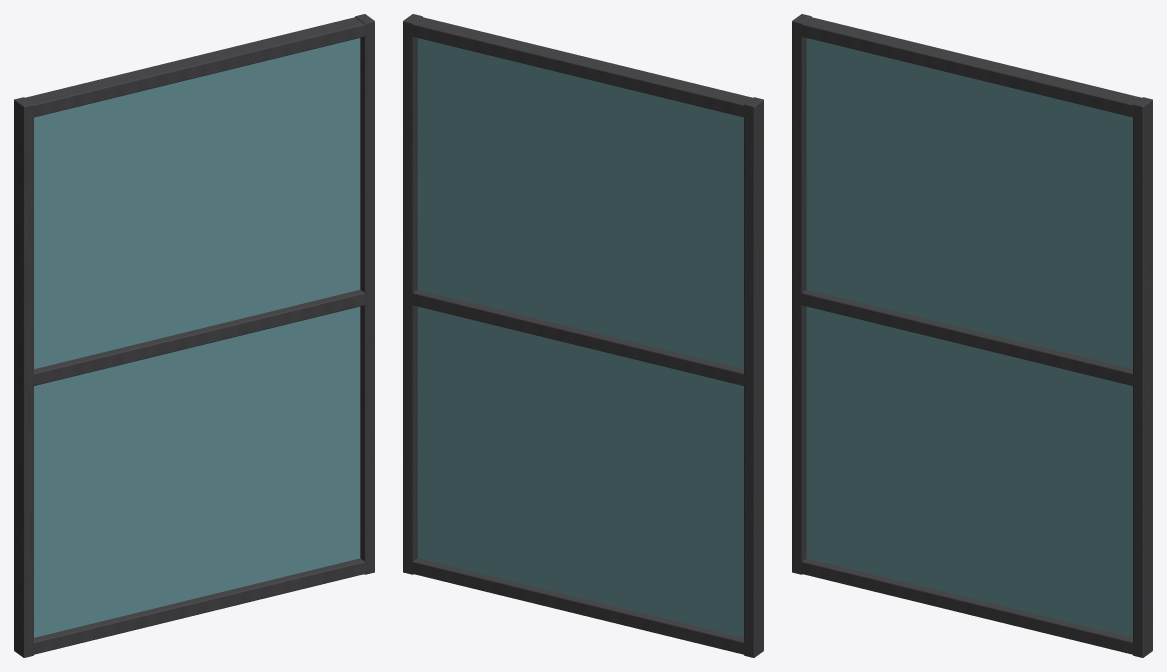
File: glass_panel.glb
3 renders of one model, left to right at view 1: azimuth 30°, elevation 25°; view 2: azimuth 150°, elevation 25°; view 3: azimuth 330°, elevation 25°, orthographic.
Parts seen in each view (by area): view 1: window_glass.001, window_glass, left_frame, right_frame, cross_frame.002, cross_frame, cross_frame.001; view 2: window_glass.001, window_glass, left_frame, right_frame, cross_frame.002, cross_frame, cross_frame.001; view 3: window_glass.001, window_glass, right_frame, left_frame, cross_frame.002, cross_frame, cross_frame.001.
Boxes of the visible parts, <box> form: window_glass.001: <box>34,38,360,369</box>; window_glass: <box>34,306,360,637</box>; left_frame: <box>14,97,33,657</box>; right_frame: <box>355,14,374,574</box>; cross_frame.002: <box>25,17,365,117</box>; cross_frame: <box>33,558,365,654</box>; cross_frame.001: <box>33,289,365,385</box>; window_glass.001: <box>417,38,743,369</box>; window_glass: <box>417,306,743,637</box>; left_frame: <box>744,97,763,657</box>; right_frame: <box>403,14,422,574</box>; cross_frame.002: <box>412,17,752,117</box>; cross_frame: <box>412,558,744,654</box>; cross_frame.001: <box>412,289,744,385</box>; window_glass.001: <box>806,38,1132,369</box>; window_glass: <box>806,306,1132,637</box>; right_frame: <box>1133,97,1152,657</box>; left_frame: <box>792,14,811,574</box>; cross_frame.002: <box>801,17,1141,117</box>; cross_frame: <box>801,558,1133,654</box>; cross_frame.001: <box>801,289,1133,385</box>.
Bounding box in the file's own units: 2 × 3 × 0.1.
Materials: 2 (1 with a texture image).
